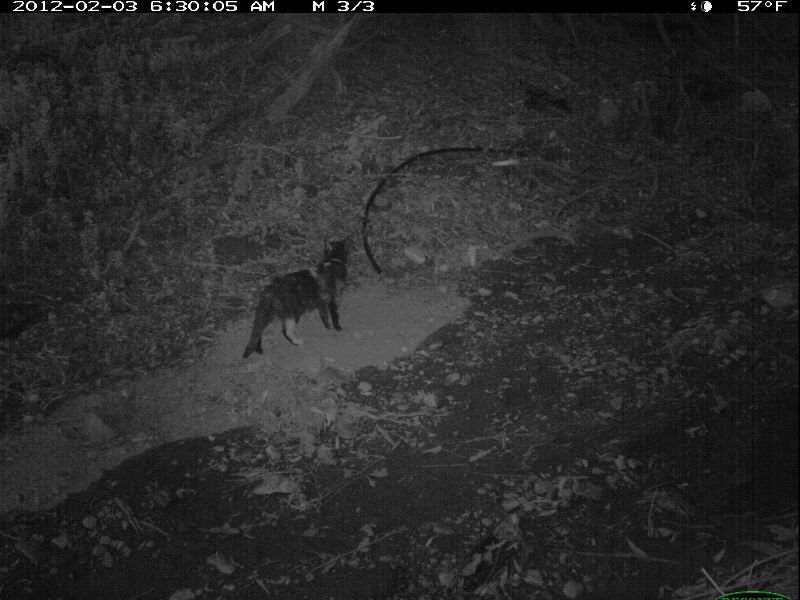cat: (244, 234, 351, 364)
